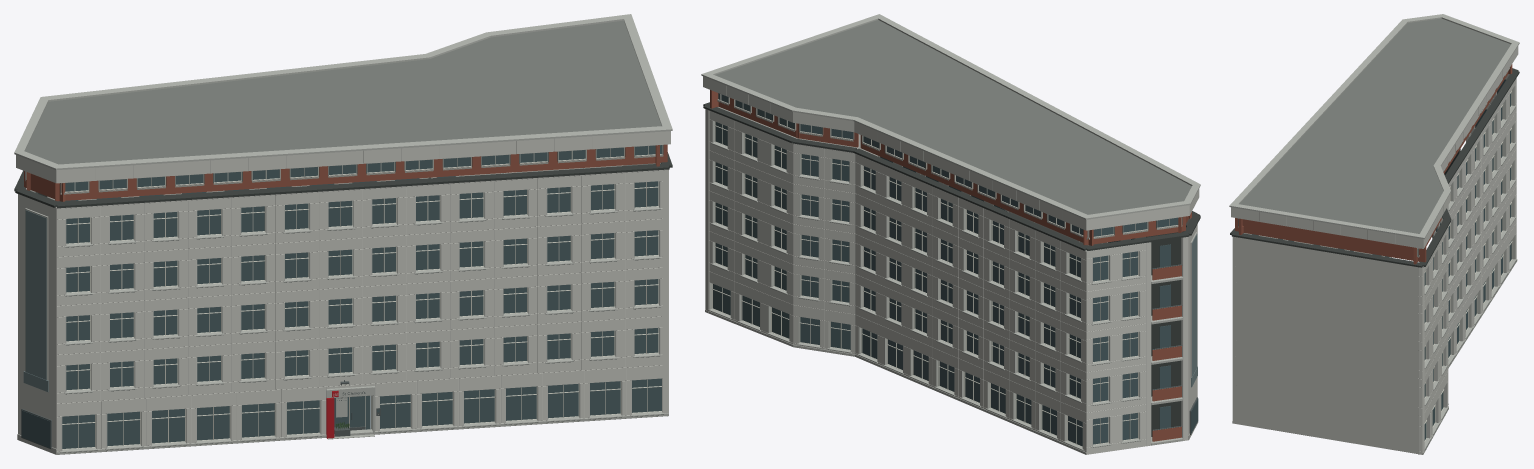
File: stc-exterior-29e6e81e1535.glb
The picture shows the model from 3 angles, left to right: view 1: azimuth 30°, elevation 25°; view 2: azimuth 150°, elevation 25°; view 3: azimuth 270°, elevation 25°; orthographic projection. The views are drawn at different scales.
Parts seen in each view (by area): view 1: STC.001; view 2: STC.001; view 3: STC.001.
Boxes of the visible parts, box(x1,y1,x2,y2) form: STC.001: box(14, 14, 672, 454); STC.001: box(701, 14, 1200, 454); STC.001: box(1229, 14, 1519, 454).
Bounding box in the file's own units: 45.99 × 20.91 × 25.19.
